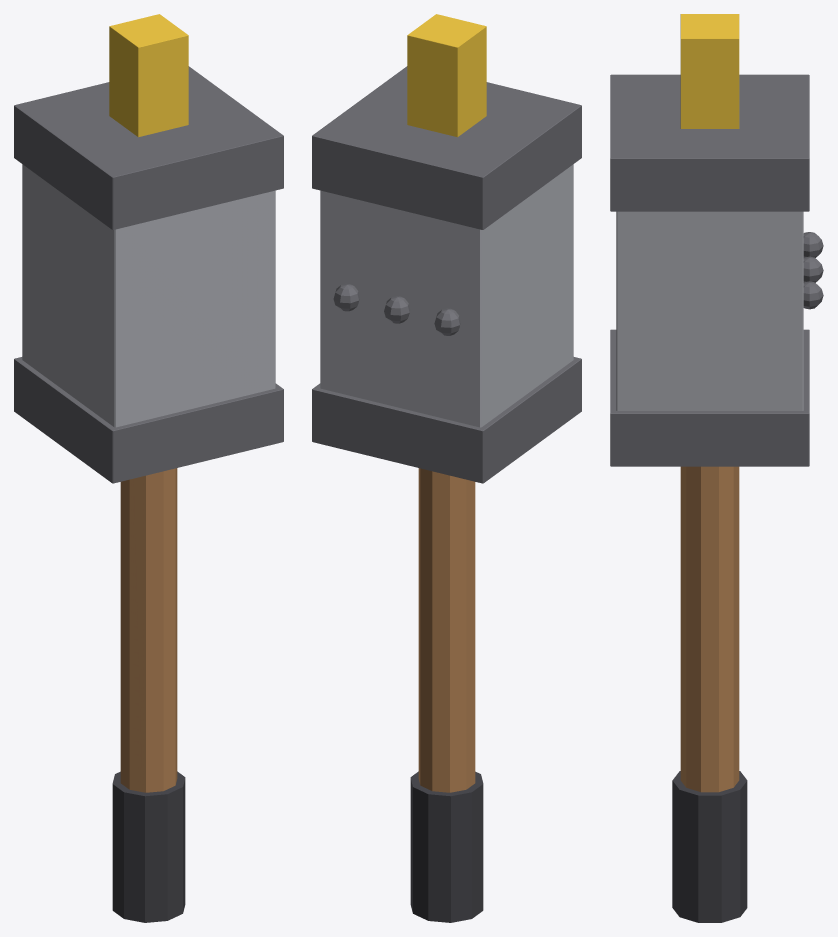
File: scrap-sledge.glb
3 renders of one model, left to right at view 1: azimuth 30°, elevation 25°; view 2: azimuth 150°, elevation 25°; view 3: azimuth 270°, elevation 25°, orthographic.
Parts seen in each view (by area): view 1: head, face_l, haft, face_r, grip, spike; view 2: head, face_l, haft, face_r, grip, spike, rivet, rivet.002, rivet.001; view 3: head, face_l, haft, face_r, grip, spike, rivet, rivet.001, rivet.002.
Boxes of the visible parts, x1,y1,x2,y2 form: head: (22, 164, 275, 427); face_l: (14, 66, 283, 229); haft: (120, 468, 177, 792); face_r: (14, 357, 283, 483); grip: (112, 771, 185, 922); spike: (109, 14, 188, 137); head: (320, 164, 573, 427); face_l: (312, 66, 581, 229); haft: (418, 468, 475, 792); face_r: (312, 357, 581, 483); grip: (410, 771, 483, 922); spike: (407, 14, 486, 137); rivet: (333, 283, 359, 311); rivet.002: (384, 296, 410, 323); rivet.001: (434, 308, 460, 335); head: (616, 211, 803, 410); face_l: (610, 74, 809, 211); haft: (680, 466, 739, 792); face_r: (610, 329, 809, 466); grip: (672, 771, 747, 922); spike: (680, 14, 739, 128); rivet: (803, 281, 823, 309); rivet.001: (803, 232, 823, 257); rivet.002: (803, 256, 823, 282).
Bounding box in the file's own units: 0.17 × 0.83 × 0.182.
